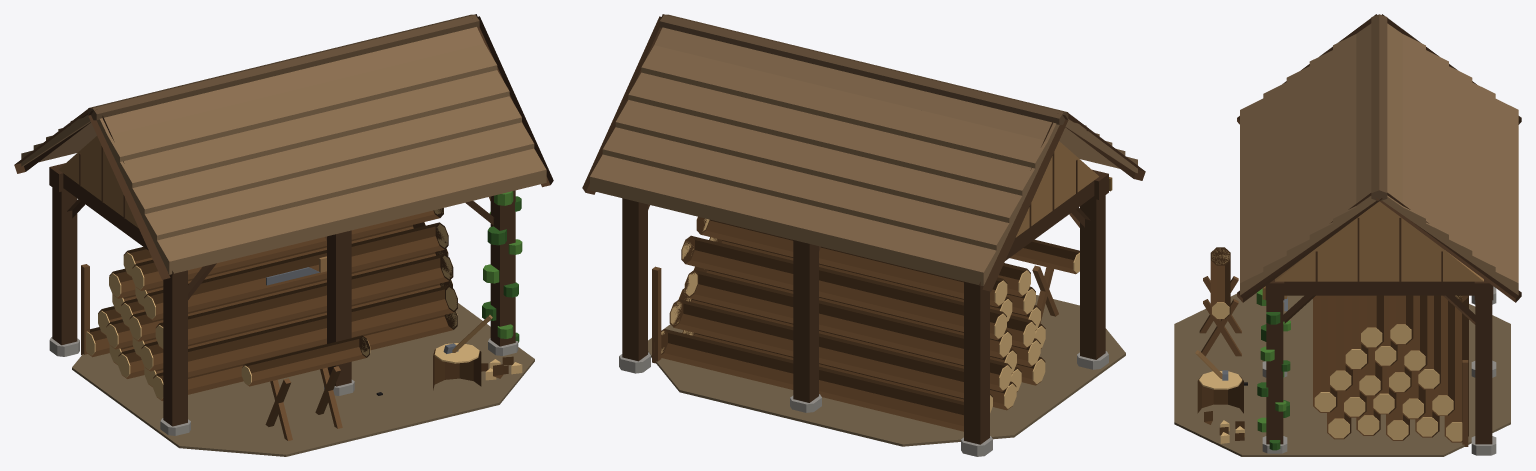
The model's file is lumber_camp_3.obj.
3 renders of one model, left to right at view 1: azimuth 30°, elevation 25°; view 2: azimuth 150°, elevation 25°; view 3: azimuth 270°, elevation 25°, orthographic. The views are drawn at different scales.
Parts seen in each view (by area): view 1: Roof, Log, Ground, Post, Roof.Ridge, Log.End, Gable.Barge, Gable, Ivy, Sawhorse.Leg, Post.Foot, Beam.Side (+5 smaller); view 2: Roof, Log, Post, Ground, Roof.Ridge, Log.End, Gable.Barge, Gable, Post.Foot, Beam.Side, Pile.Stake, Sawhorse.Leg; view 3: Roof, Ground, Log, Gable, Log.End, Post, Roof.Ridge, Beam.Side, Gable.Barge, Ivy, Sawhorse.Leg, Post.Foot (+8 smaller).
Boxes of the visible parts, x1,y1,x2,y2 form: Roof: (21,27,546,274); Log: (87,208,457,400); Ground: (72,303,534,456); Post: (52,163,515,426); Roof.Ridge: (88,14,479,120); Log.End: (86,208,457,399); Gable.Barge: (14,14,553,279); Gable: (58,136,138,228); Ivy: (482,191,522,342); Sawhorse.Leg: (265,366,342,440); Post.Foot: (49,337,518,435); Beam.Side: (63,173,148,250); Roof: (590,27,1137,286); Log: (654,216,1079,431); Post: (622,170,1105,444); Ground: (648,295,1125,446); Roof.Ridge: (659,14,1068,124); Log.End: (661,217,1079,412); Gable.Barge: (582,14,1145,291); Gable: (1016,141,1098,237); Post.Foot: (619,351,1108,456); Beam.Side: (1005,173,1103,260); Pile.Stake: (652,266,661,363); Sawhorse.Leg: (1032,265,1058,323); Roof: (1240,23,1518,295); Ground: (1174,293,1510,456); Log: (1210,247,1468,442); Gable: (1275,201,1483,281); Log.End: (1212,248,1462,441); Post: (1266,281,1492,444); Roof.Ridge: (1371,14,1387,200); Beam.Side: (1272,279,1486,295); Gable.Barge: (1237,14,1521,302); Ivy: (1256,288,1290,450); Sawhorse.Leg: (1199,276,1241,356); Post.Foot: (1262,286,1496,455).
Size of the model in its own units: 5.46 by 3.91 by 4.49.
